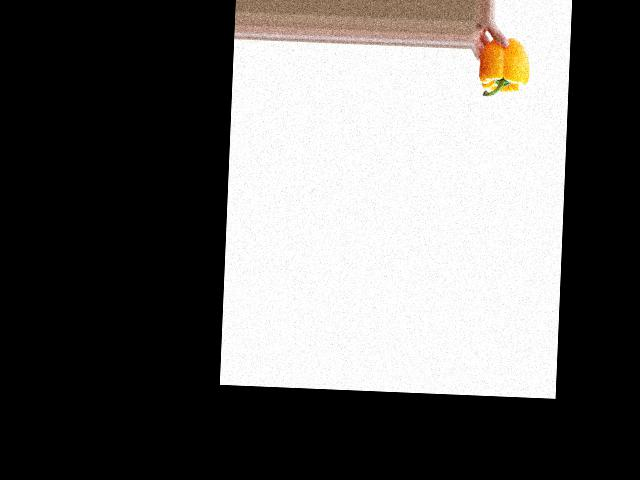bell_pepper: (478, 35, 532, 101)
